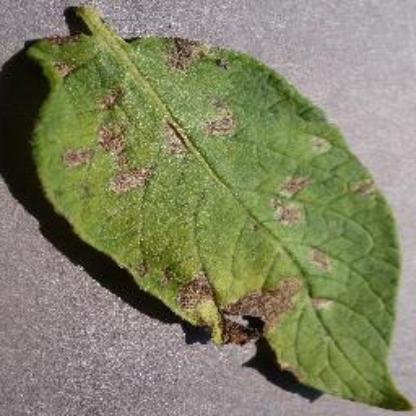Early-Blight: (26, 2, 414, 408)
